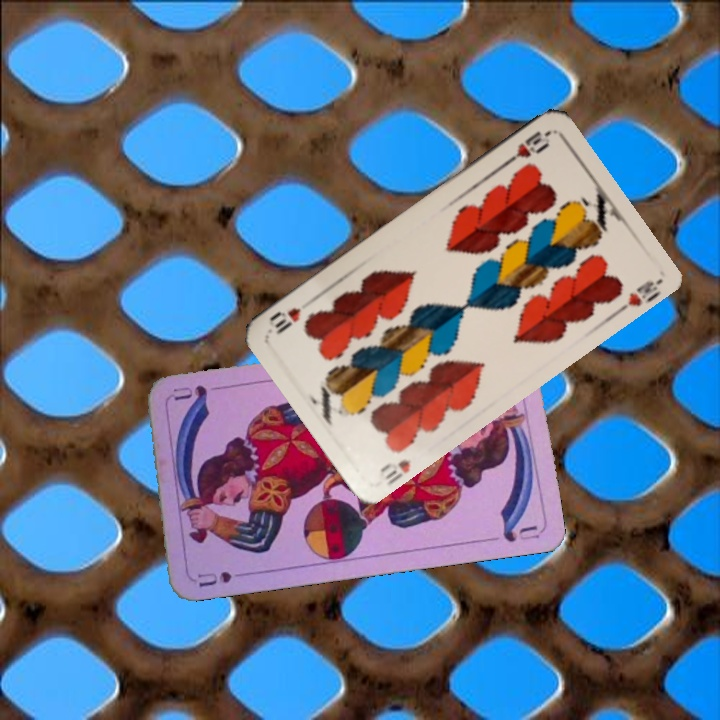H10: (501, 126, 552, 168), (376, 455, 414, 488)
SU: (193, 567, 252, 590)
